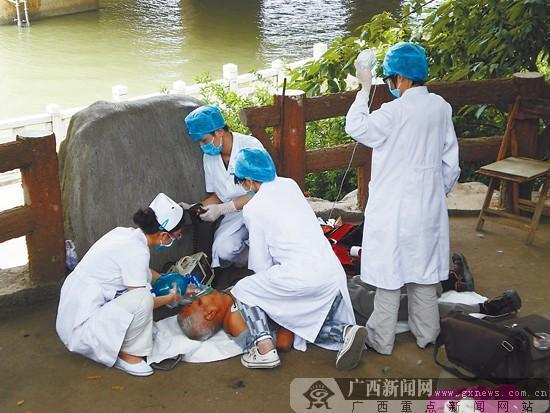Fall-Detected: (167, 244, 547, 344)
